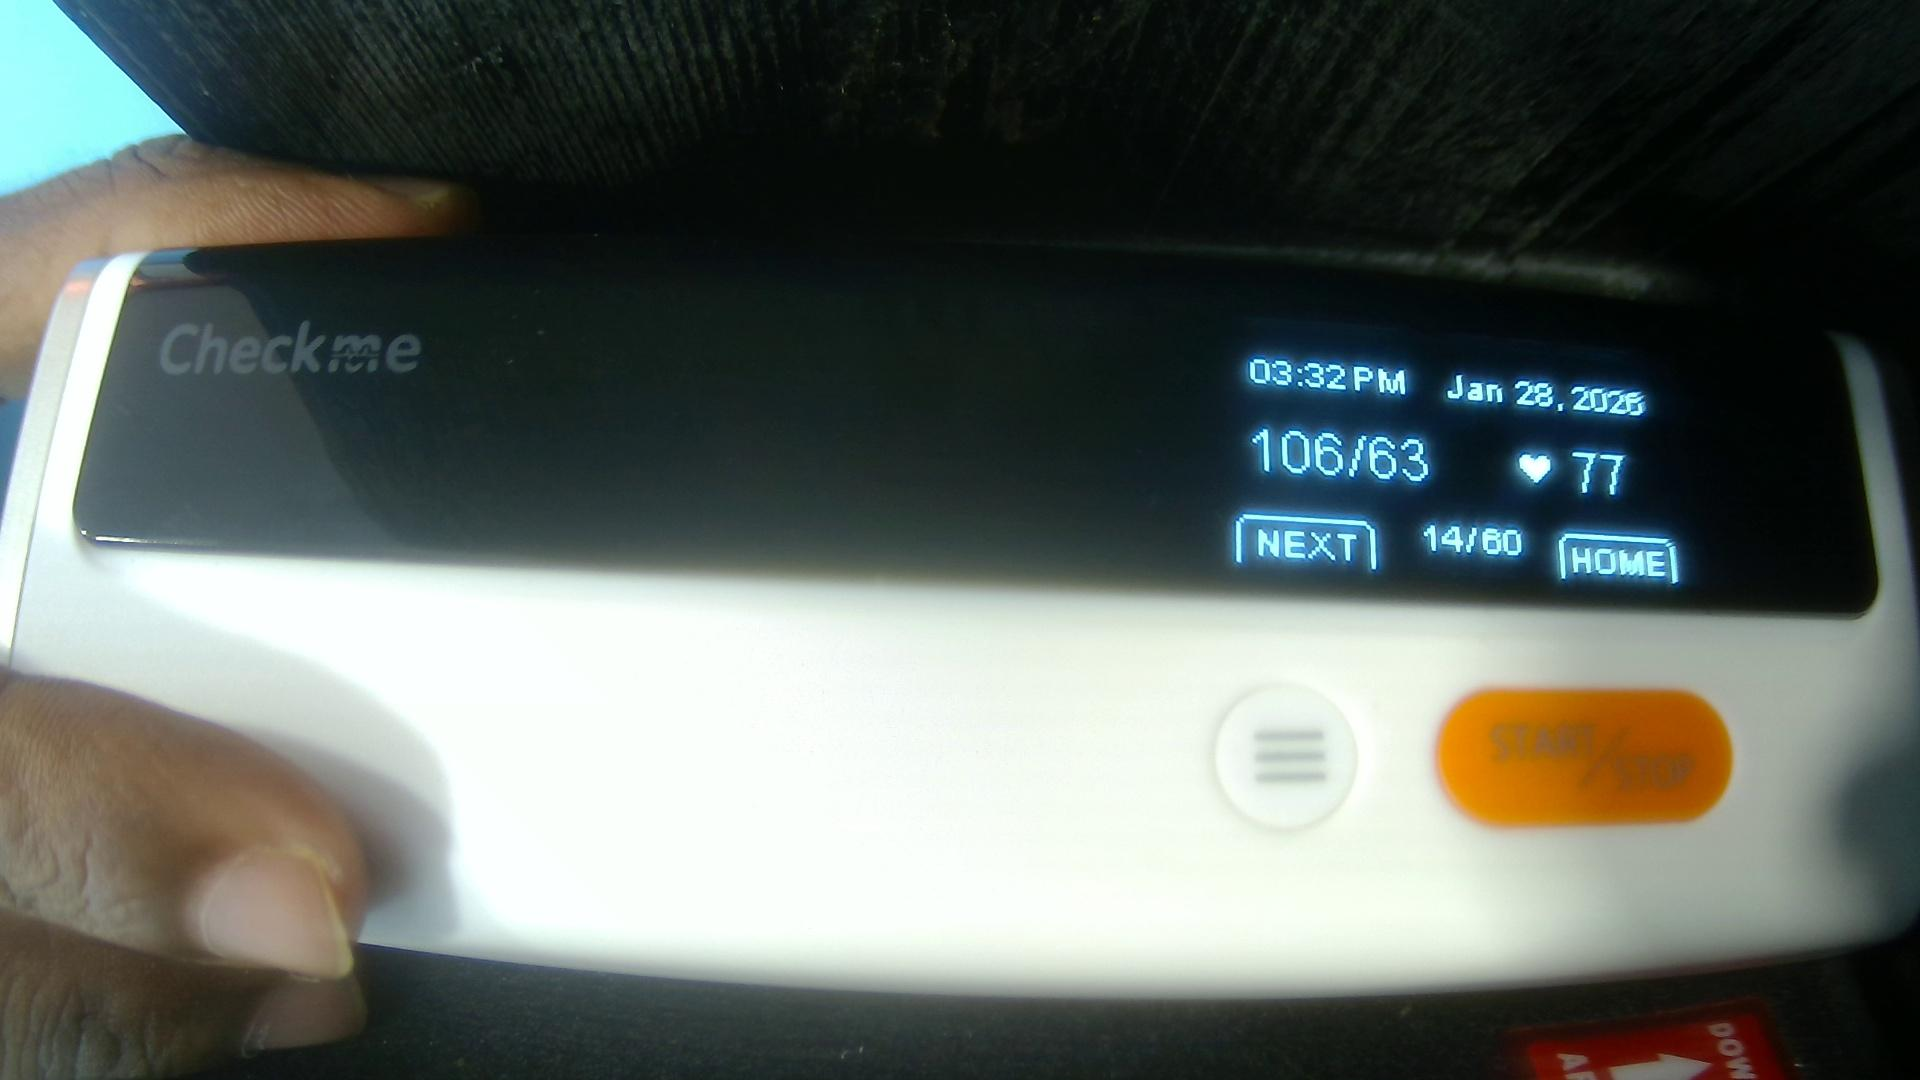DISPLAY: (81, 254, 1863, 614)
